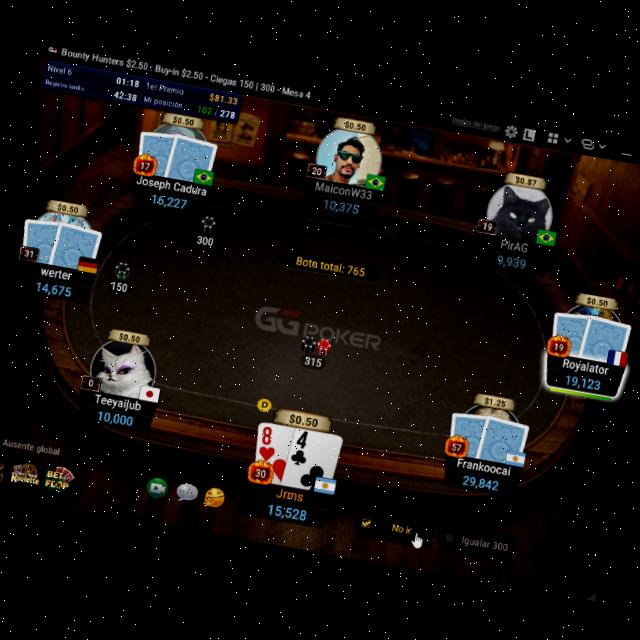4c: (288, 427, 313, 468)
8h: (256, 422, 280, 463), (256, 423, 280, 462)
bet_text: (302, 353, 324, 368), (195, 233, 215, 247), (110, 278, 130, 292)
card_back: (162, 128, 220, 188), (576, 310, 634, 368), (473, 410, 532, 467), (47, 216, 104, 274), (132, 124, 182, 180), (546, 306, 596, 362), (17, 212, 68, 266), (444, 407, 493, 460)
dealer: (254, 394, 274, 414)
pot_text: (293, 252, 368, 278), (286, 411, 320, 428), (286, 410, 319, 427)
stack_text: (265, 498, 308, 524), (95, 406, 135, 426), (564, 370, 603, 390), (460, 470, 499, 490), (322, 195, 361, 215), (150, 190, 188, 210), (36, 276, 74, 296), (496, 252, 528, 270)
